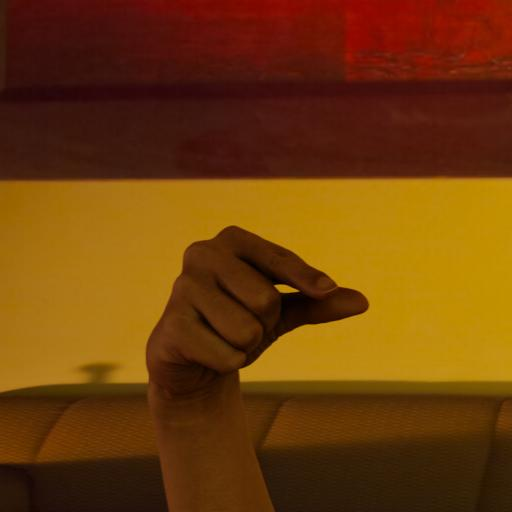G: (116, 187, 386, 512)
